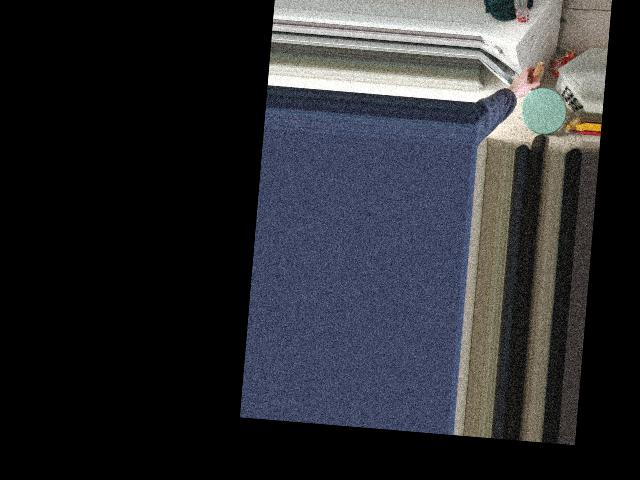sweet_potato: (520, 60, 543, 98)
